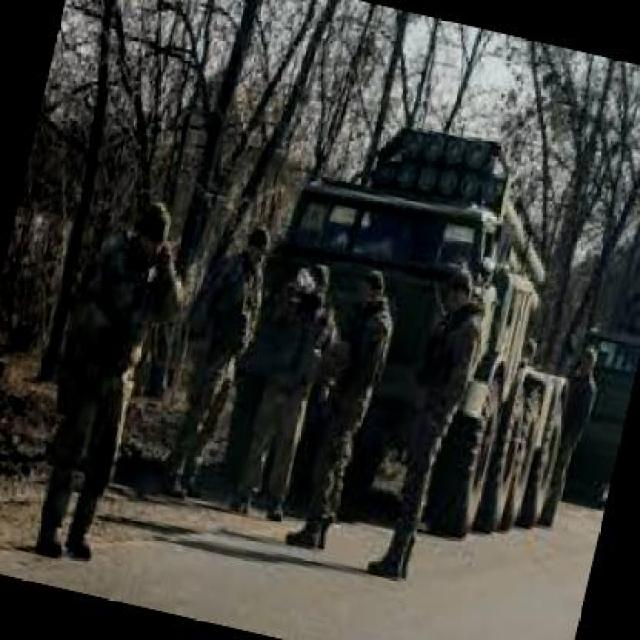MIL_Pax: (15, 192, 183, 570), (349, 260, 494, 583), (287, 264, 404, 554), (156, 221, 272, 497), (229, 255, 343, 518), (529, 336, 609, 533)
